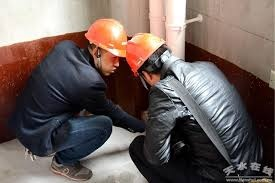yellow: (126, 31, 174, 88), (84, 16, 125, 75)
